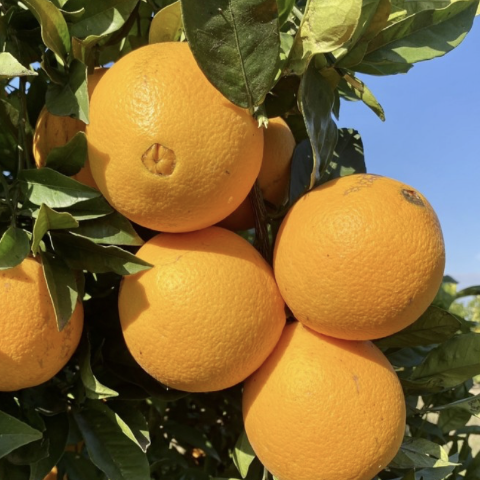orange: (79, 34, 284, 234), (217, 309, 427, 476), (104, 213, 291, 389), (273, 177, 465, 337)
